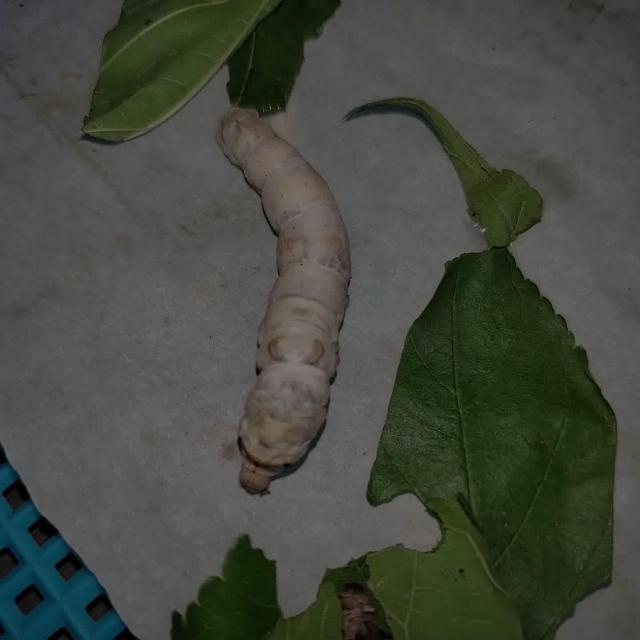Grasserie: (204, 99, 364, 501)
